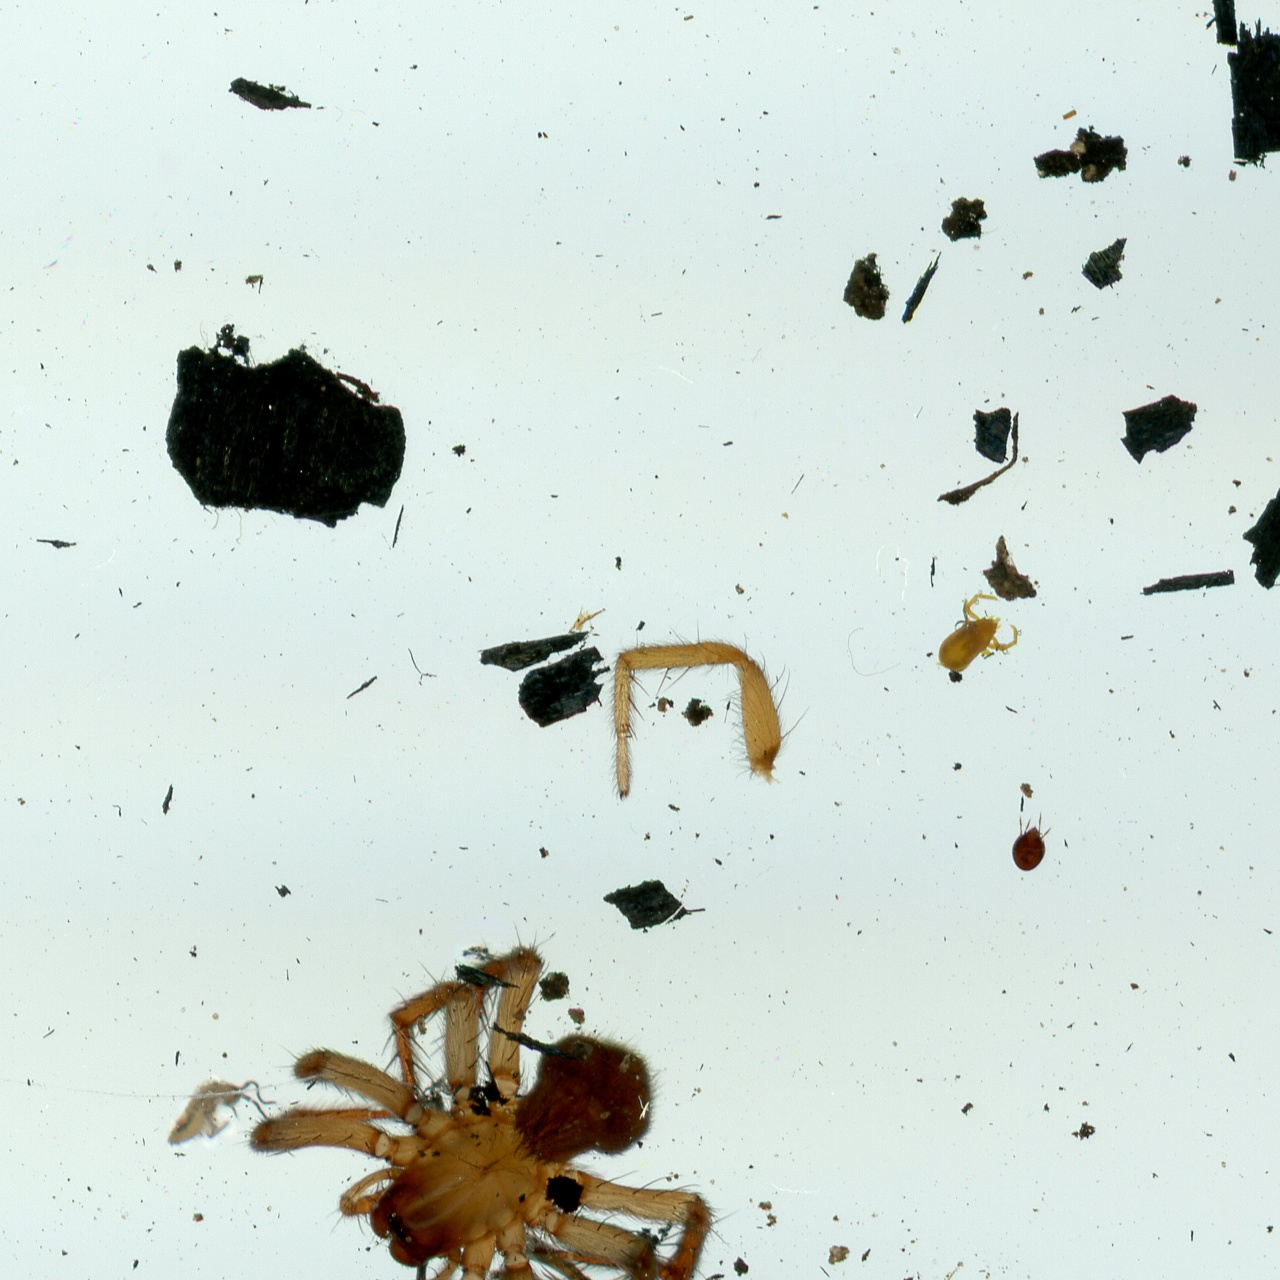arthropod: (232, 908, 743, 1280), (161, 1075, 279, 1152), (933, 590, 1023, 678), (1009, 810, 1055, 876)
